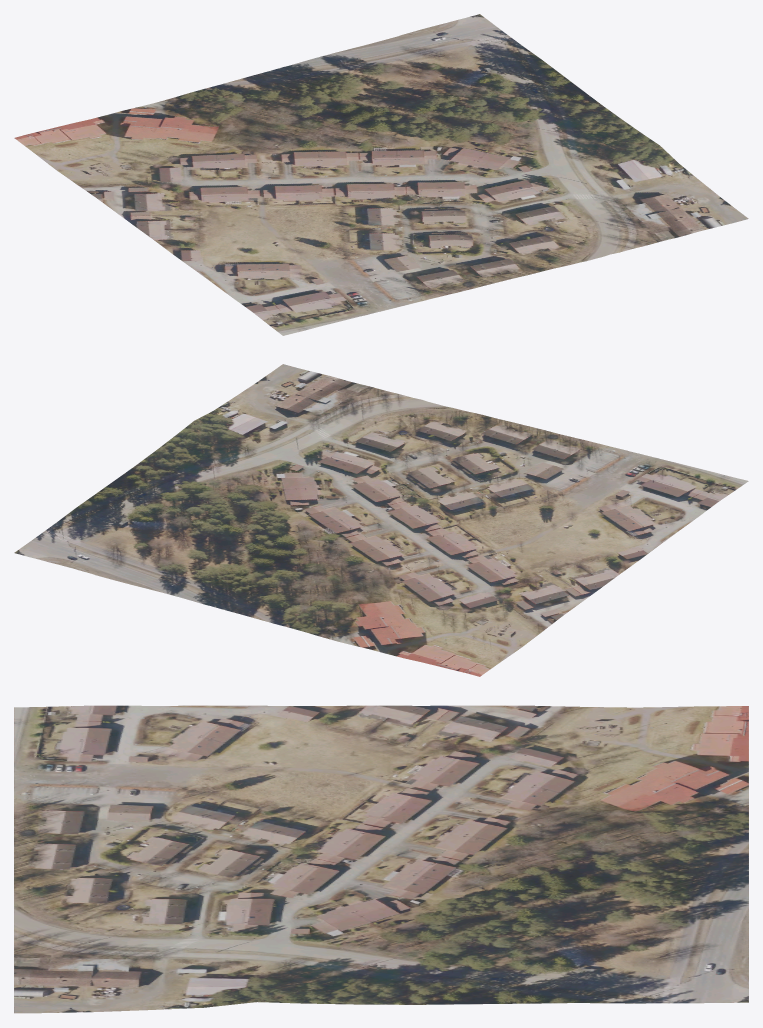
Rendered from CM_Terrain_24492506_6818156.fbx.
3 renders of one model, top to bottom at view 1: azimuth 30°, elevation 25°; view 2: azimuth 150°, elevation 25°; view 3: azimuth 270°, elevation 25°, orthographic. The views are drawn at different scales.
Parts seen in each view (by area): view 1: CM_Terrain_24492506_6818156_LOD0; view 2: CM_Terrain_24492506_6818156_LOD0; view 3: CM_Terrain_24492506_6818156_LOD0.
Boxes of the visible parts, x1,y1,x2,y2 form: CM_Terrain_24492506_6818156_LOD0: (14, 14, 748, 335); CM_Terrain_24492506_6818156_LOD0: (14, 364, 748, 676); CM_Terrain_24492506_6818156_LOD0: (14, 705, 748, 1013).
Size of what is drawn, in the model's own units: 205 by 4.98 by 205.
